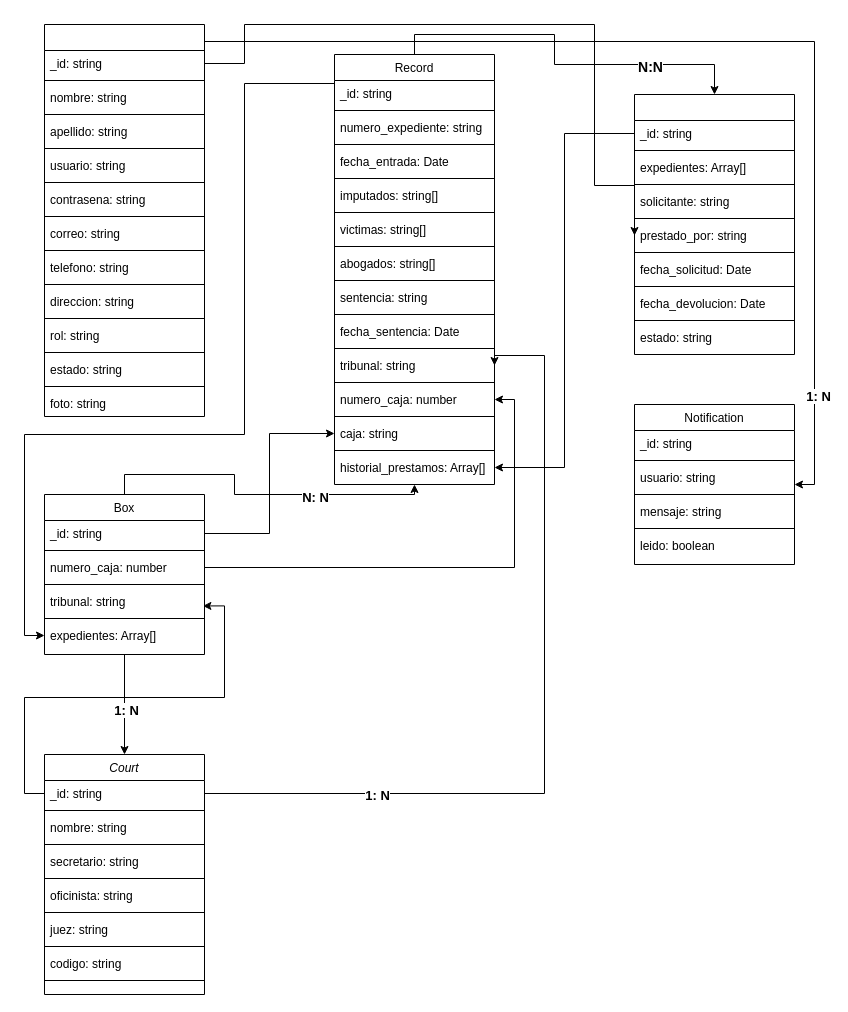
The diagram is 848 pixels wide and 1012 high, and some of its shapes have lost their labels. Each missing label, with the box of its shape:
Loan: (634, 94, 794, 354)
User: (44, 24, 204, 416)
